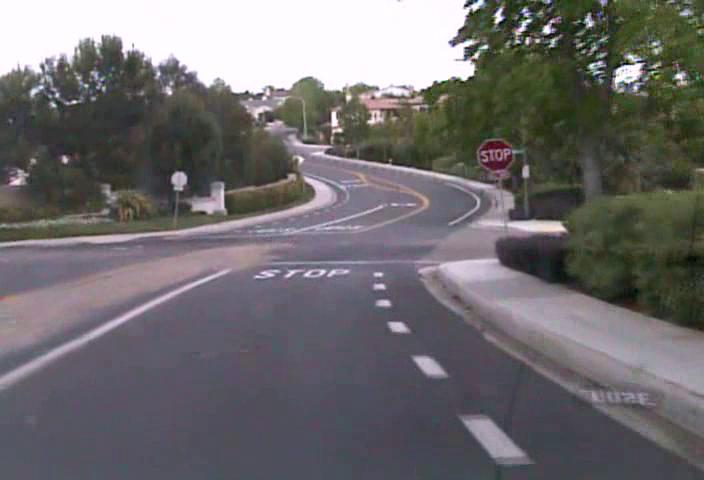stop: (476, 137, 514, 174)
